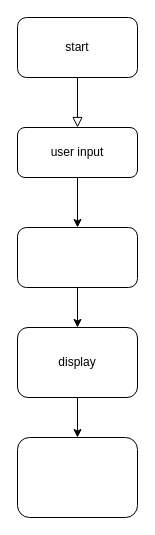
Some shapes in this 155 by 535 pixel diagram are drawn without their labels. The shapes that lost their labels are listed below. From the top down, each one's centre as x and y in pixels, then its label:
At pixel 77 257: "add".
At pixel 77 477: "end".
